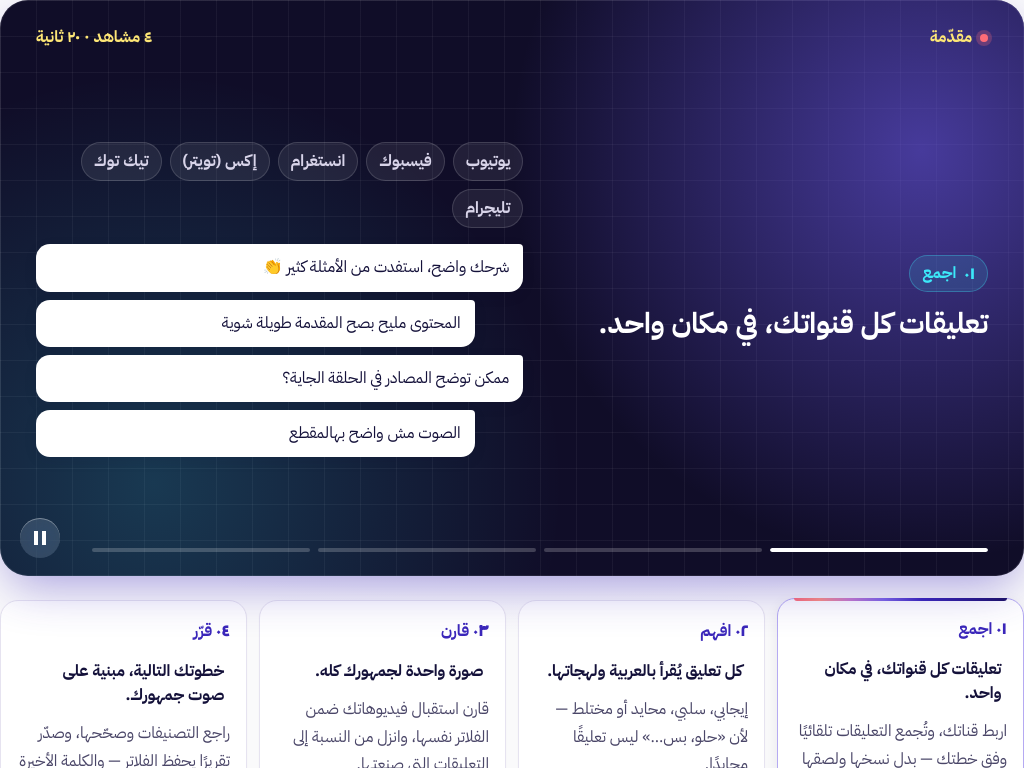
Test: IntroPlayer › jumps to a scene from the list
Click the button "صورة واحدة لجمهورك كله." at (399, 671), box x1=315 y1=659 x2=483 y2=683
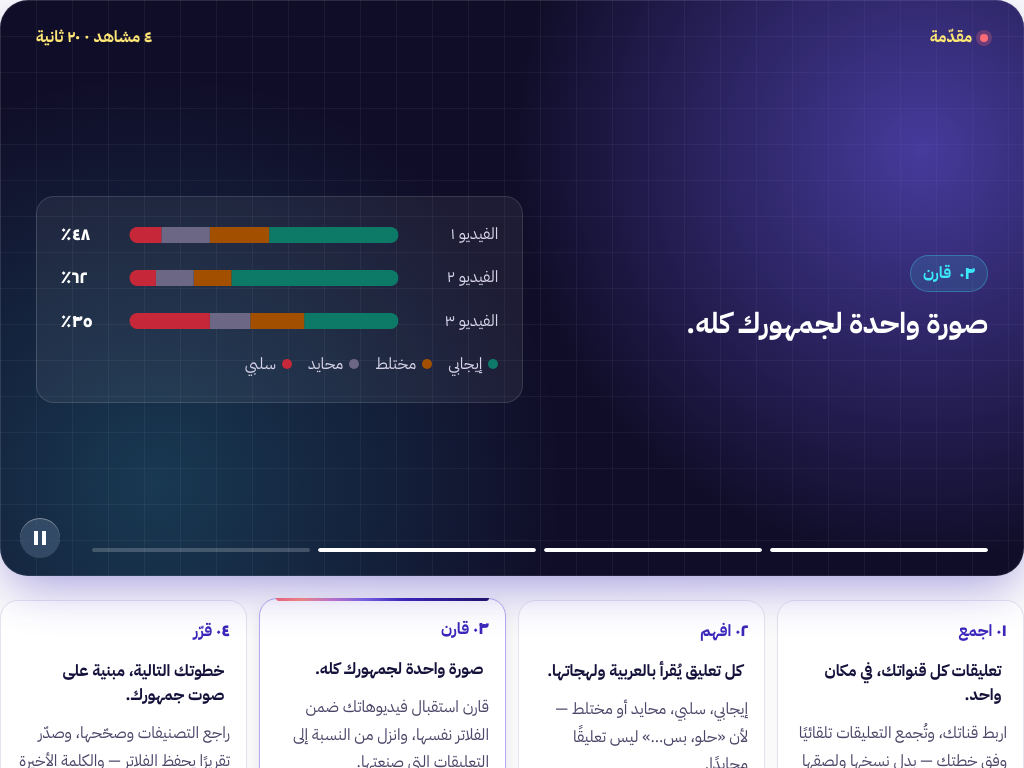
Now the element with class "ix-scene--3" is shown, box x1=36 y1=196 x2=988 y2=403
Now the number of icons with class "ix-bar" is 3, box x1=129 y1=227 x2=398 y2=243; x1=129 y1=270 x2=398 y2=286; x1=129 y1=313 x2=398 y2=329
